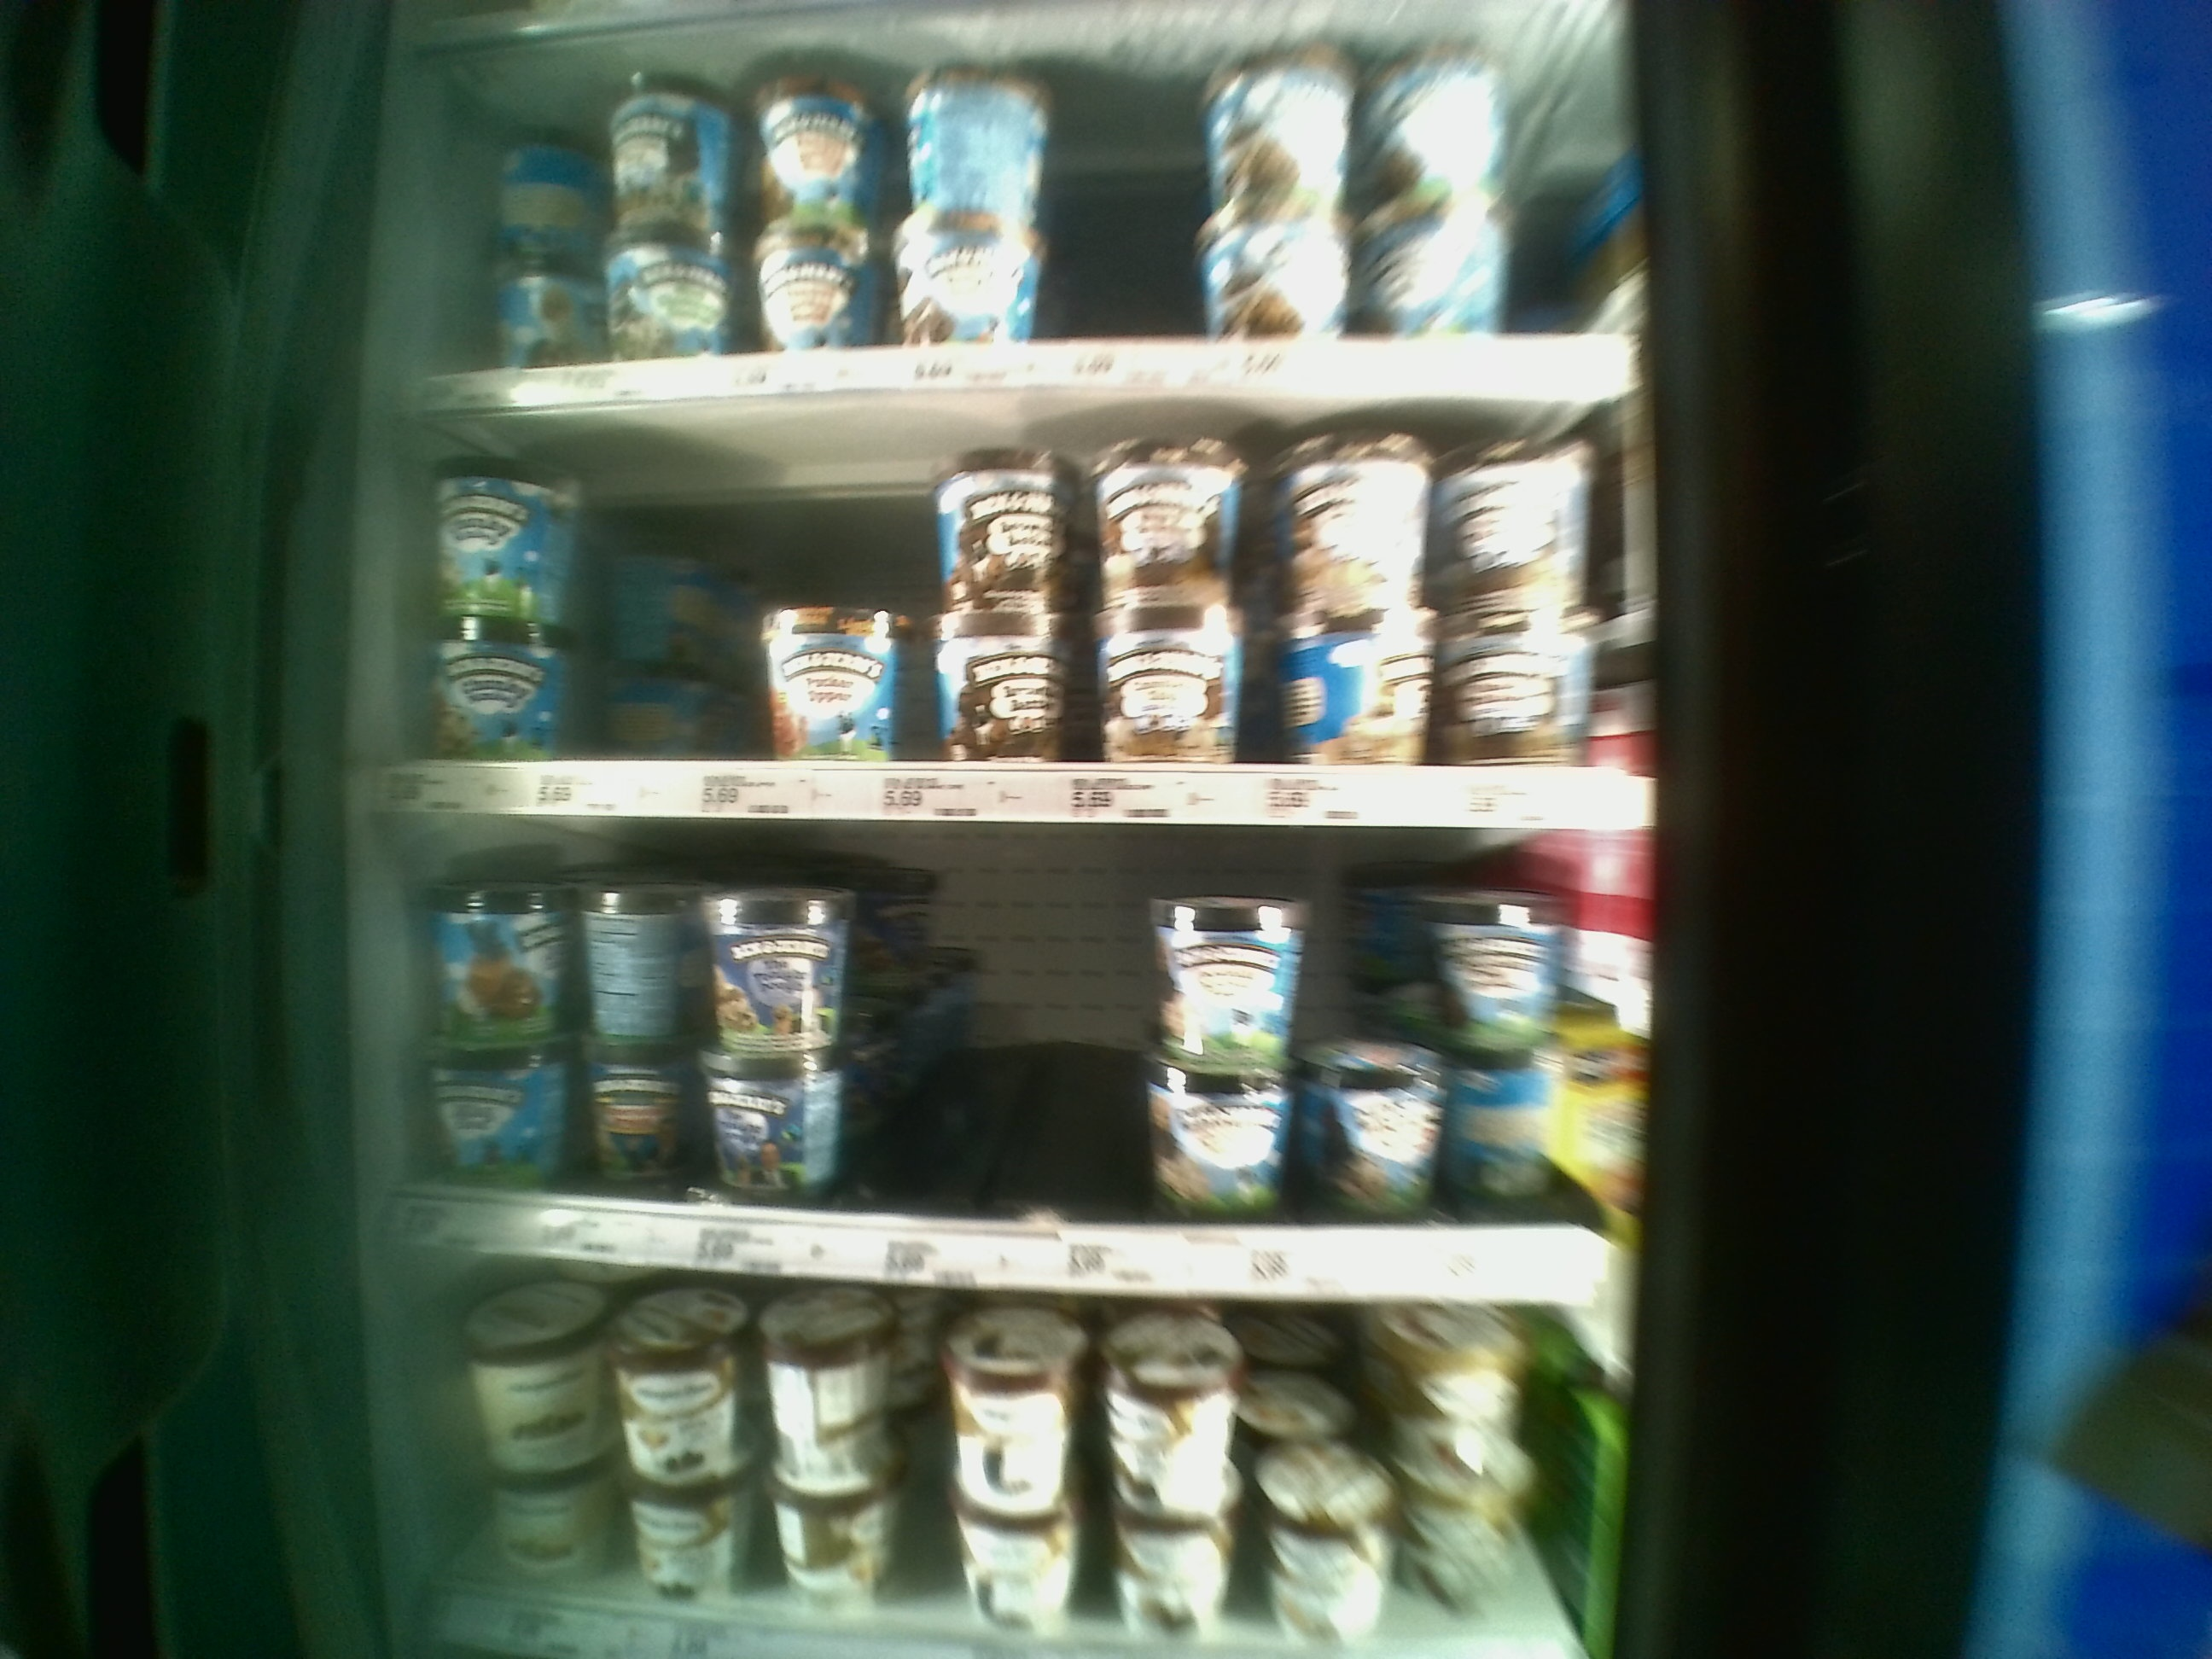shelf: (394, 814, 1634, 1309), (394, 385, 1651, 819)
